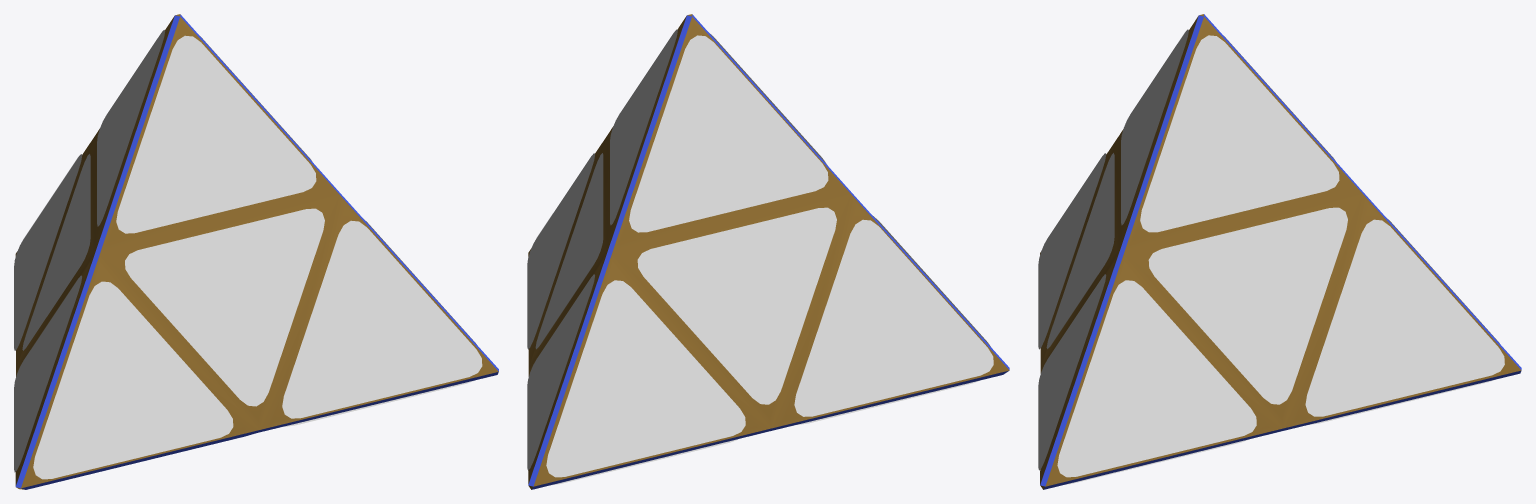
The model's file is Piramide 1.fbx.
The picture shows the model from 3 angles, left to right: view 1: azimuth 30°, elevation 25°; view 2: azimuth 150°, elevation 25°; view 3: azimuth 270°, elevation 25°; orthographic projection.
Visible parts, largest first — view 1: piramide.001; view 2: piramide.001; view 3: piramide.001.
Boxes of the visible parts, x1,y1,x2,y2 form: piramide.001: (14, 14, 498, 489); piramide.001: (527, 14, 1009, 489); piramide.001: (1038, 14, 1521, 489).
Size of the model in its own units: 170 by 122 by 148.
